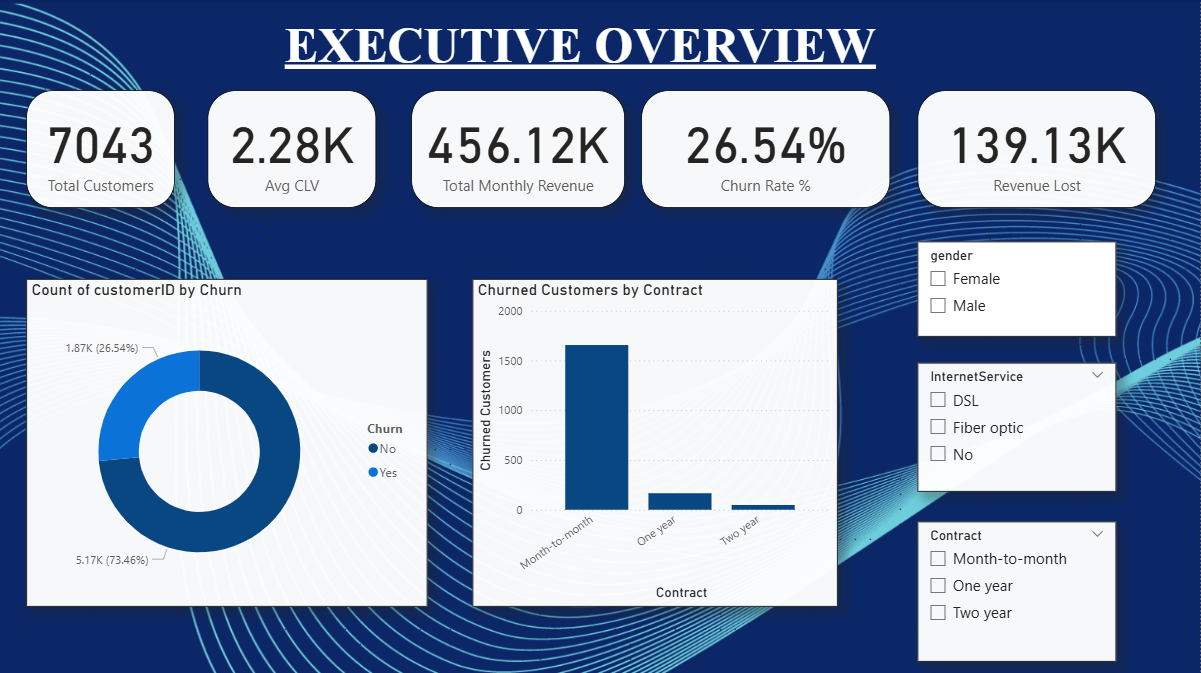

What the dashboard file says about the page in this screenshot:
{"tool":"powerbi","page":{"name":"Executive Overview","canvas":[1280,720],"ordinal":0},"visuals":[{"type":"card","fields":{"Values":["WA_Fn-UseC_-Telco-Customer-Chur.Total Customers"]},"box":[28,97.3,158.7,125.3],"z":0},{"type":"card","fields":{"Values":["WA_Fn-UseC_-Telco-Customer-Chur.Churn Rate %"]},"box":[684,97.3,265.3,125.3],"z":1000},{"type":"card","fields":{"Values":["WA_Fn-UseC_-Telco-Customer-Chur.Total Monthly Revenue"]},"box":[438.7,97.3,228,125.3],"z":2000},{"type":"card","fields":{"Values":["WA_Fn-UseC_-Telco-Customer-Chur.Revenue Lost"]},"box":[978.7,97.3,254.7,125.3],"z":3000},{"type":"card","fields":{"Values":["WA_Fn-UseC_-Telco-Customer-Chur.Avg CLV"]},"box":[221.3,97.3,180,125.3],"z":4000},{"type":"donutChart","fields":{"Category":["WA_Fn-UseC_-Telco-Customer-Chur.Churn"],"Y":["CountNonNull(WA_Fn-UseC_-Telco-Customer-Chur.customerID)"]},"box":[28,298.7,428,349.3],"z":5000},{"type":"lineClusteredColumnComboChart","fields":{"Category":["WA_Fn-UseC_-Telco-Customer-Chur.Contract"],"Y":["WA_Fn-UseC_-Telco-Customer-Chur.Churned Customers"]},"box":[504,298.7,389.3,349.3],"z":6000},{"type":"slicer","fields":{"Values":["WA_Fn-UseC_-Telco-Customer-Chur.gender"]},"box":[978.7,258.7,212,101.3],"z":7000},{"type":"slicer","fields":{"Values":["WA_Fn-UseC_-Telco-Customer-Chur.InternetService"]},"box":[978.7,388,212,137.3],"z":8000},{"type":"slicer","fields":{"Values":["WA_Fn-UseC_-Telco-Customer-Chur.Contract"]},"box":[978.7,557.3,212,149.3],"z":9000},{"type":"textbox","title":"EXECUTIVE OVERVIEW","box":[298.7,18.7,650.7,60],"z":10000}]}

Visuals, with their boxes in screenshot pixels (x1, y1, x2, y2), scaled from the page's 1280x720 canvas onto the 1201x673 screenshot:
card - WA_Fn-UseC_-Telco-Customer-Chur.Total Customers: l=26, t=91, r=175, b=208
card - WA_Fn-UseC_-Telco-Customer-Chur.Churn Rate %: l=642, t=91, r=891, b=208
card - WA_Fn-UseC_-Telco-Customer-Chur.Total Monthly Revenue: l=412, t=91, r=626, b=208
card - WA_Fn-UseC_-Telco-Customer-Chur.Revenue Lost: l=918, t=91, r=1157, b=208
card - WA_Fn-UseC_-Telco-Customer-Chur.Avg CLV: l=208, t=91, r=377, b=208
donutChart - WA_Fn-UseC_-Telco-Customer-Chur.Churn x CountNonNull(WA_Fn-UseC_-Telco-Customer-Chur.customerID): l=26, t=279, r=428, b=606
lineClusteredColumnComboChart - WA_Fn-UseC_-Telco-Customer-Chur.Contract x WA_Fn-UseC_-Telco-Customer-Chur.Churned Customers: l=473, t=279, r=838, b=606
slicer - WA_Fn-UseC_-Telco-Customer-Chur.gender: l=918, t=242, r=1117, b=336
slicer - WA_Fn-UseC_-Telco-Customer-Chur.InternetService: l=918, t=363, r=1117, b=491
slicer - WA_Fn-UseC_-Telco-Customer-Chur.Contract: l=918, t=521, r=1117, b=660
"EXECUTIVE OVERVIEW" textbox: l=280, t=17, r=891, b=74
